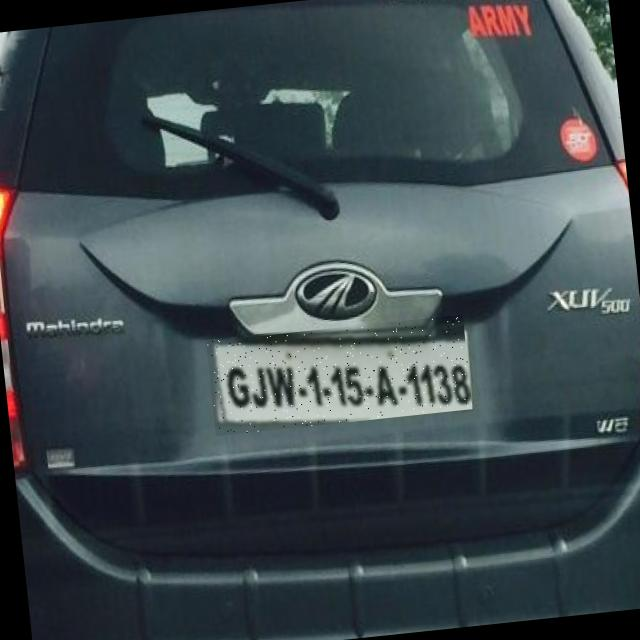Plate: (207, 316, 474, 437)
